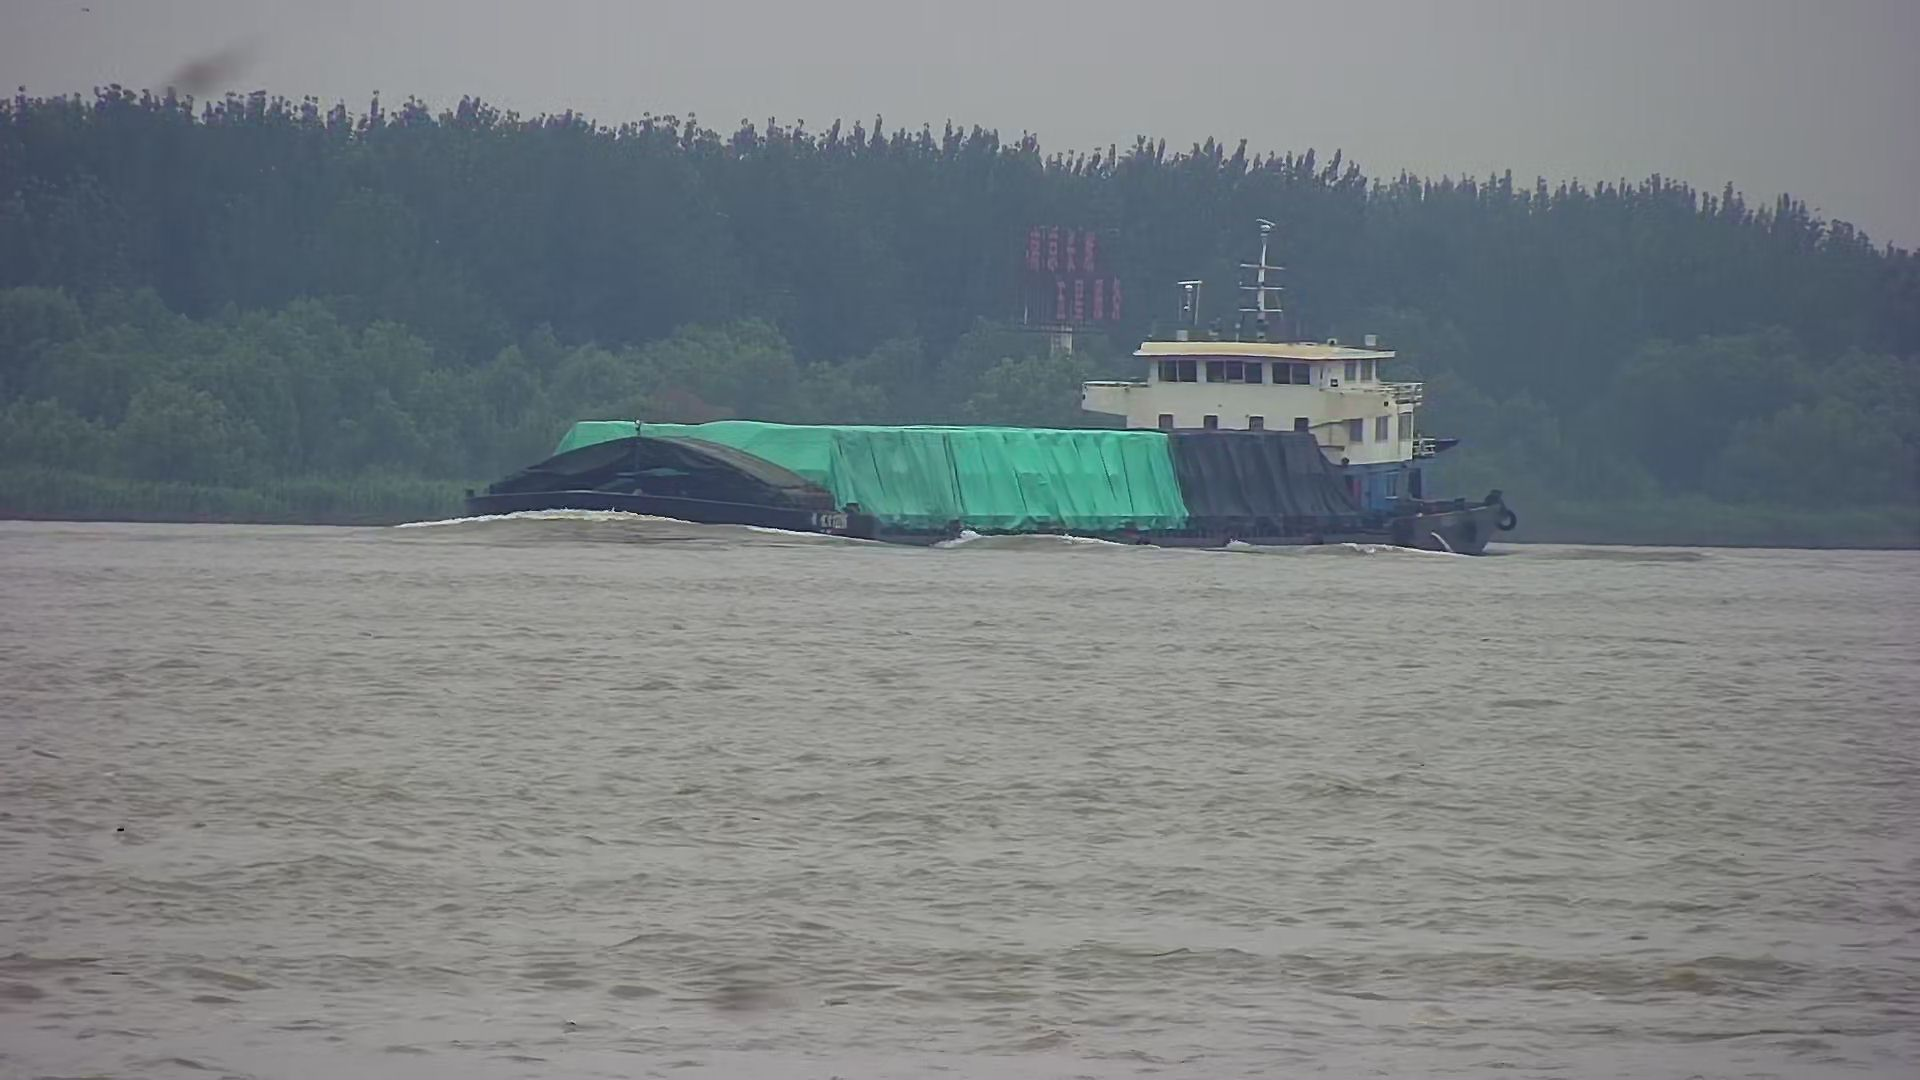ship: (471, 284, 1520, 563)
